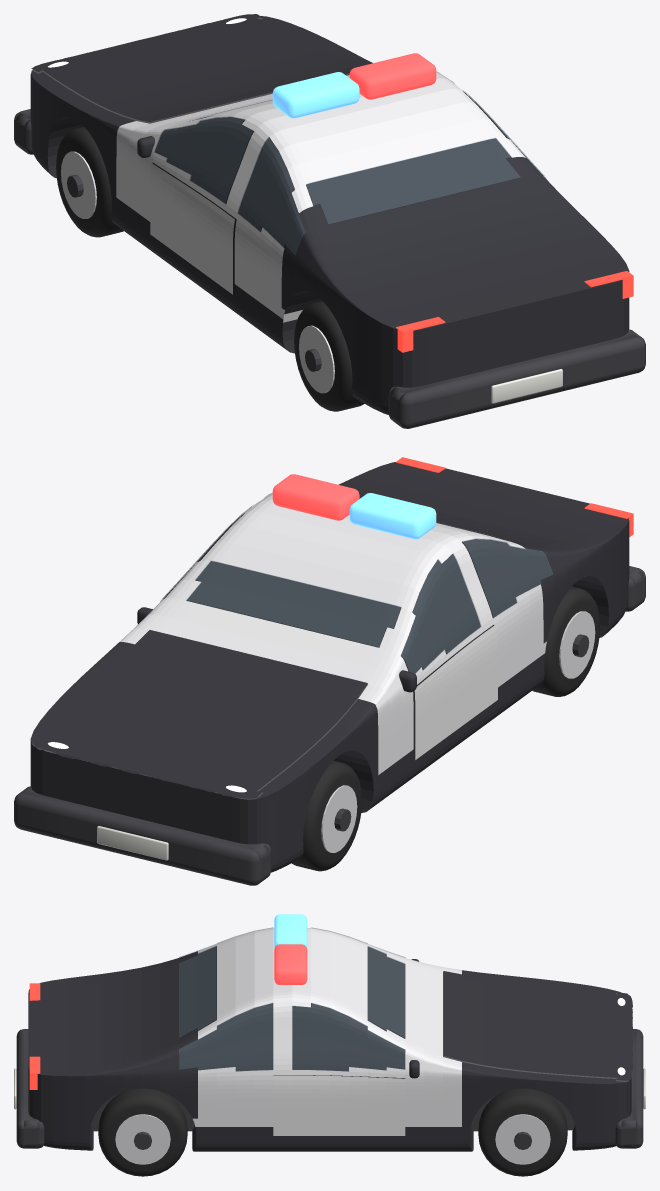
The model's file is car_siren.glb.
3 views of the same model, one above another, from view 1: azimuth 30°, elevation 25°; view 2: azimuth 150°, elevation 25°; view 3: azimuth 270°, elevation 25° (orthographic). The views are drawn at different scales.
Parts seen in each view (by area): view 1: body, hood, glass_l, bumper_r, glass_r, door_l, extra_lightbar, wheel_rl, wheel_fl, extra_plate_r, light_r, bumper_f; view 2: body, hood, glass_l, bumper_f, glass_f, door_l, extra_lightbar, wheel_fl, wheel_rl, extra_plate_f, light_r, bumper_r; view 3: body, hood, glass_r_side, door_r, wheel_fr, wheel_rr, glass_f, glass_r, extra_lightbar, bumper_r, bumper_f, light_r.
Part boxes in pixels (x1,y1,x2,y2): body: (30,16,629,414); hood: (31,14,360,121); glass_l: (154,116,306,255); bumper_r: (388,329,645,428); glass_r: (306,137,520,223); door_l: (150,163,234,294); extra_lightbar: (272,53,436,118); wheel_rl: (294,301,364,411); wheel_fl: (56,127,123,237); extra_plate_r: (491,369,562,403); light_r: (396,271,633,352); bumper_f: (14,109,33,154); body: (30,462,629,872); hood: (32,630,367,798); glass_l: (401,538,552,673); bumper_f: (14,786,271,885); glass_f: (186,560,400,646); door_l: (414,624,497,759); extra_lightbar: (272,474,436,539); wheel_fl: (291,760,361,871); wheel_rl: (532,586,599,696); extra_plate_f: (97,826,168,860); light_r: (396,457,633,537); bumper_r: (625,566,645,611); body: (28,928,631,1151); hood: (443,971,632,1082); glass_r_side: (179,1002,405,1071); door_r: (273,1075,405,1135); wheel_fr: (478,1088,567,1176); wheel_rr: (98,1088,187,1176); glass_f: (368,946,405,1037); glass_r: (179,945,216,1037); extra_lightbar: (274,914,307,984); bumper_r: (16,1029,44,1148); bumper_f: (615,1029,643,1148); light_r: (29,983,40,1089).
Bounding box in the file's own units: 1.95 × 1.58 × 4.82.
